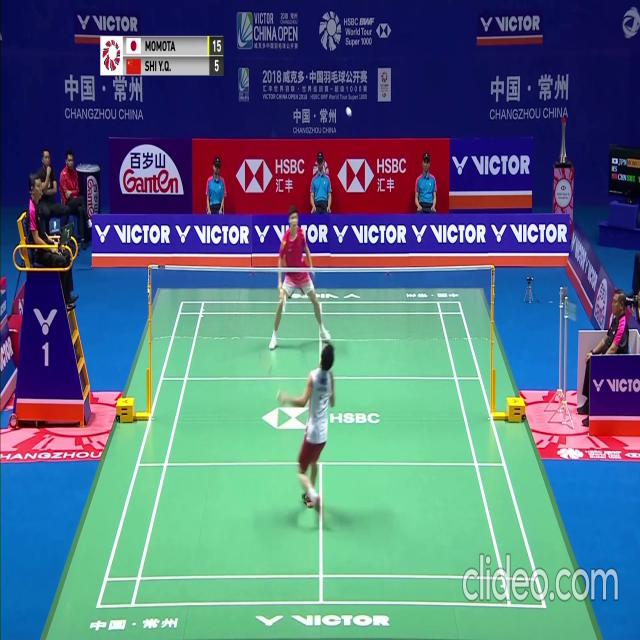Shuttlecock: (347, 109, 352, 116)
